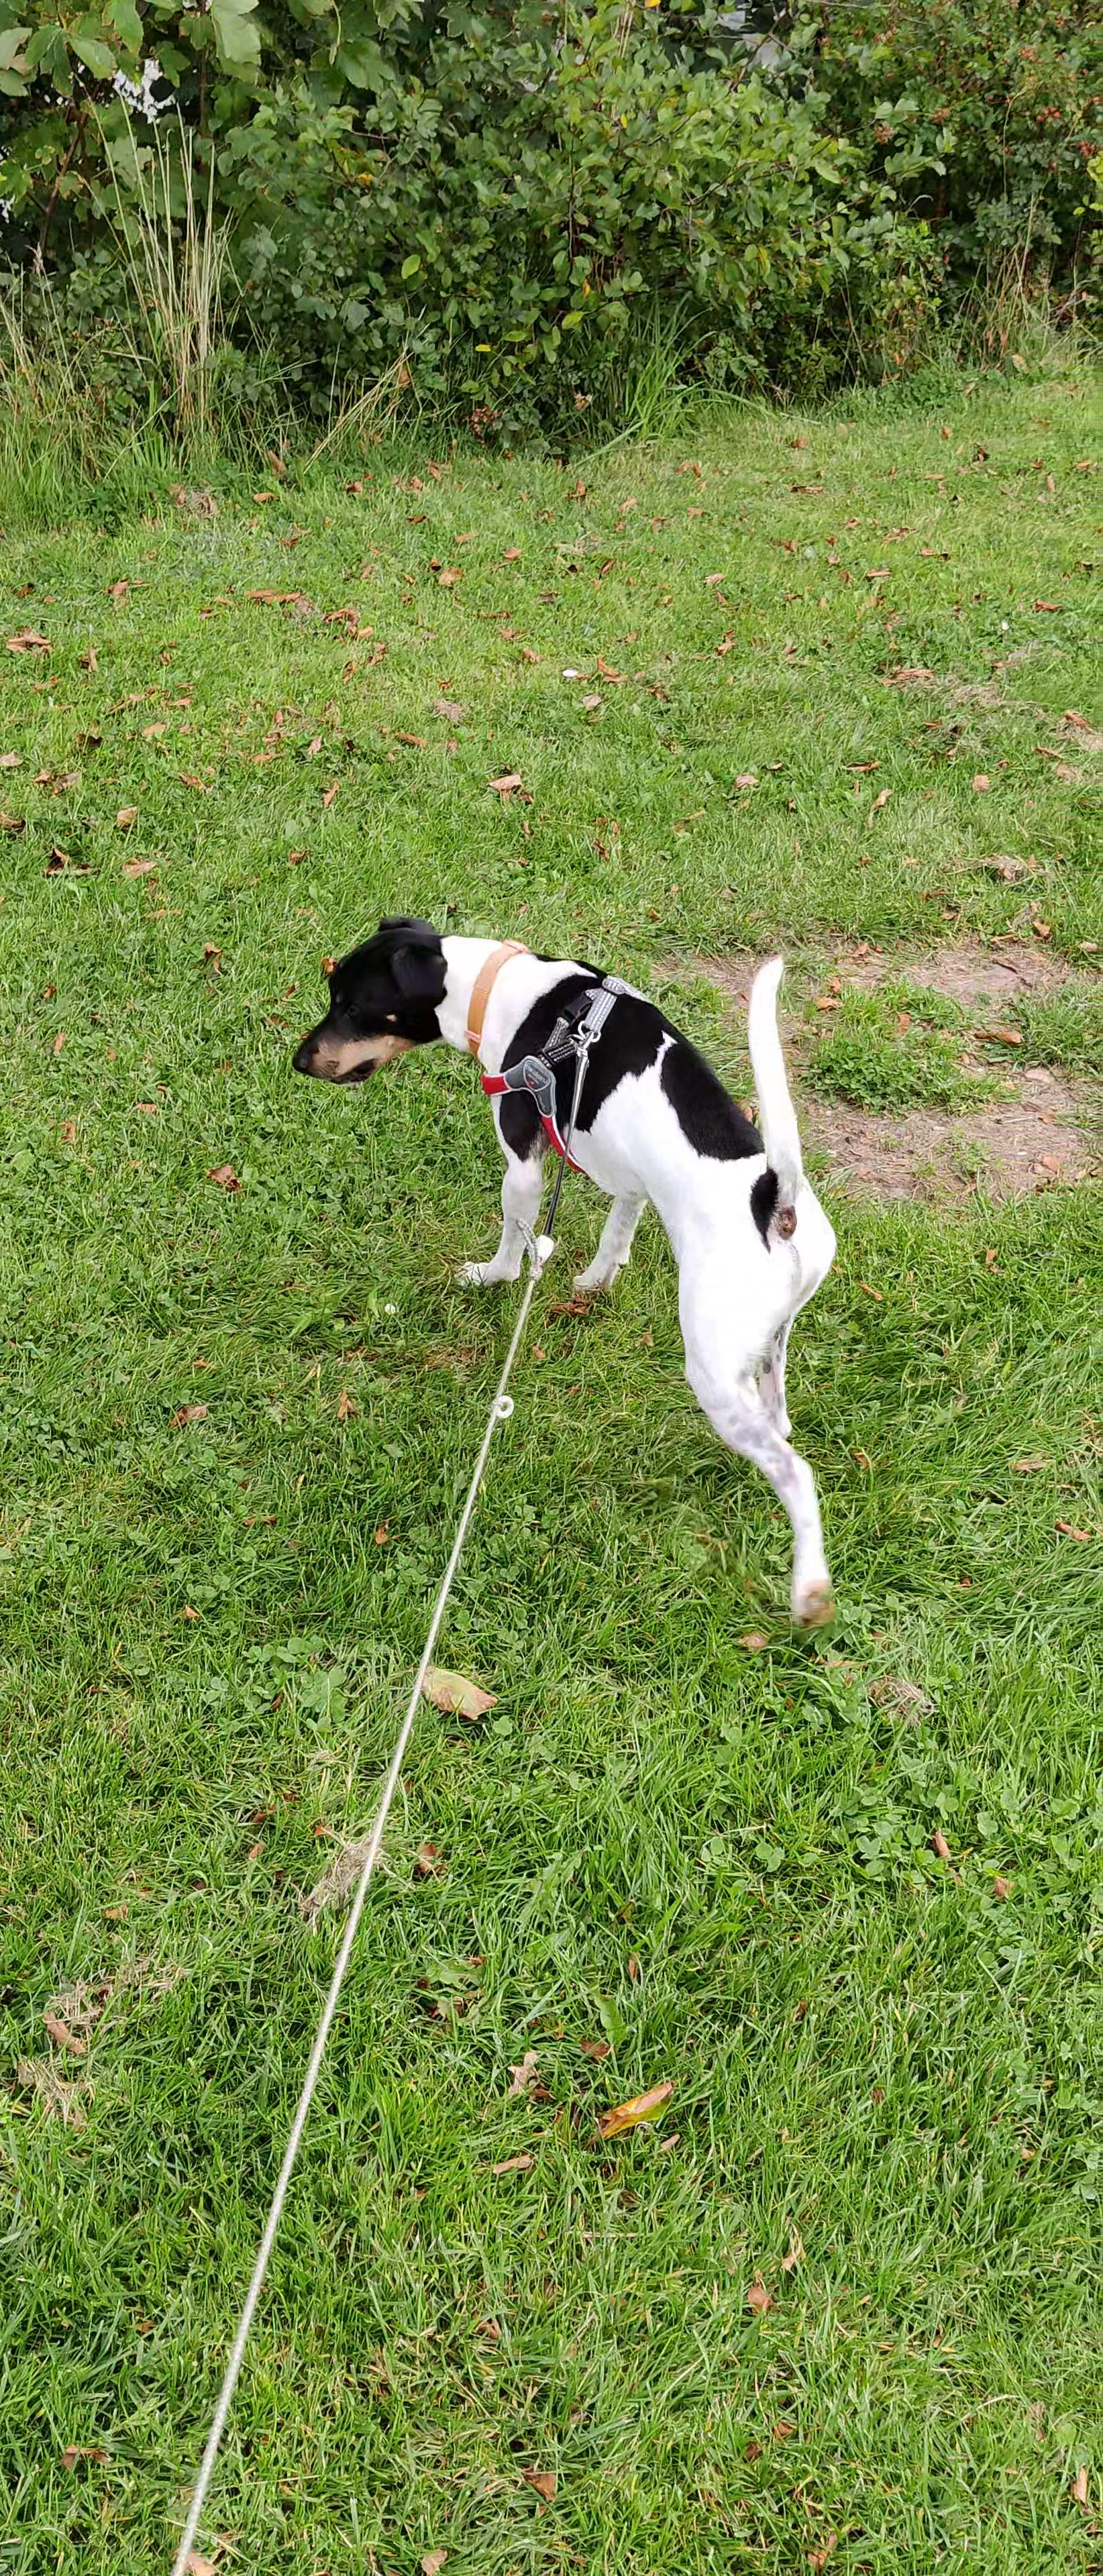Dog: (273, 858, 884, 1643)
